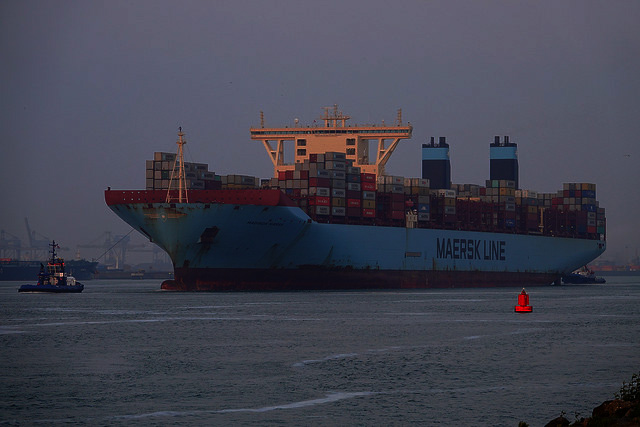container_ship: (104, 101, 609, 291)
tug_boat: (19, 245, 87, 291)
